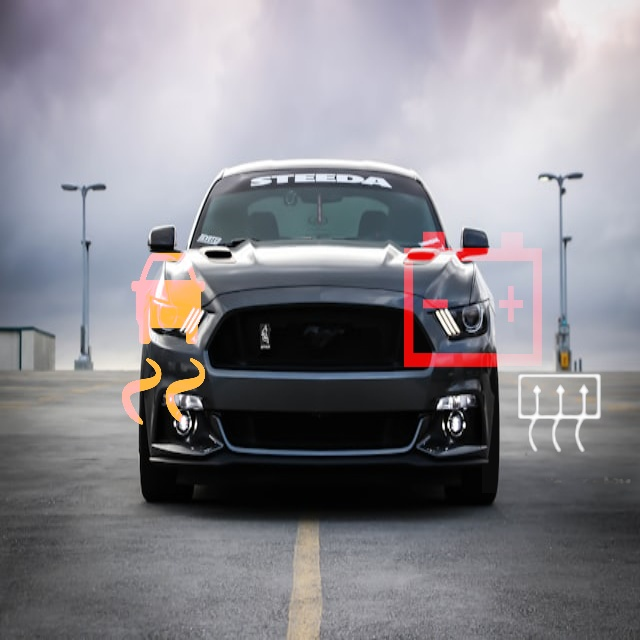symbol: (361, 187, 581, 407), (56, 229, 276, 449), (482, 337, 638, 493)
